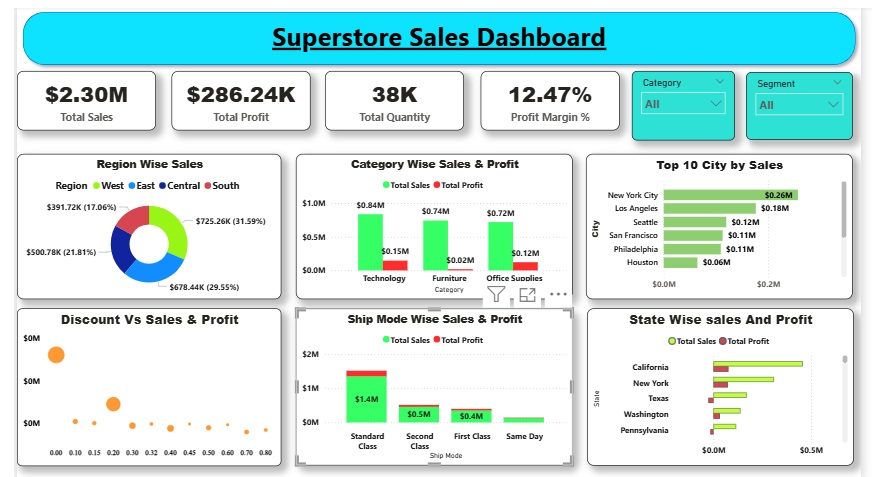

This screenshot's page, from the dashboard's own definition file:
{"tool":"powerbi","page":{"name":"Dashboard","canvas":[1280,720],"ordinal":0},"visuals":[{"type":"card","fields":{"Values":["Sales.Total Sales"]},"box":[0,98.5,211,90],"z":0},{"type":"card","fields":{"Values":["Sales.Total Profit"]},"box":[234.4,98.5,211,90],"z":1000},{"type":"card","fields":{"Values":["Sales.Profit Margin %"]},"box":[703.2,98.5,211,90],"z":2000},{"type":"card","fields":{"Values":["Sales.Total Quantity"]},"box":[467.1,98.5,211,90],"z":3000},{"type":"donutChart","title":"Region Wise Sales","fields":{"Category":["Sales.Region"],"Y":["Sales.Total Sales"]},"box":[0,224.2,400.9,220.8],"z":4000},{"type":"clusteredColumnChart","title":"Category Wise Sales & Profit","fields":{"Category":["Sales.Category"],"Y":["Sales.Total Sales","Sales.Total Profit"]},"box":[422.9,224.2,419.5,220.8],"z":5000},{"type":"clusteredBarChart","title":"Top 10 City by Sales","fields":{"Category":["Sales.City"],"Y":["Sales.Total Sales"]},"box":[862.9,224.2,404.3,220.8],"z":6000},{"type":"columnChart","title":"Ship Mode Wise Sales &  Profit","fields":{"Category":["Sales.Ship Mode"],"Y":["Sales.Total Sales","Sales.Total Profit"]},"box":[422.9,458.6,419.5,238],"z":7000},{"type":"clusteredBarChart","title":"State Wise sales And Profit","fields":{"Category":["Sales.State"],"Y":["Sales.Total Sales","Sales.Total Profit"]},"box":[864.6,458.6,404.3,238],"z":8000},{"type":"shape","box":[0,0,1280.7,98.5],"z":9000},{"type":"slicer","fields":{"Values":["Sales.Category"]},"box":[932.5,98.5,156.3,105],"z":10000},{"type":"slicer","fields":{"Values":["Sales.Segment"]},"box":[1105.8,100.2,161.4,103],"z":11000},{"type":"scatterChart","title":"Discount Vs Sales & Profit","fields":{"X":["Sales.Discount"],"Y":["Sales.Total Profit"],"Size":["Sales.Total Sales"]},"box":[0,458.6,400.9,239],"z":12000}]}

Visuals, with their boxes in screenshot pixels (x1, y1, x2, y2), scaled from the page's 1280x720 canvas onto the 872x477 screenshot:
card - Sales.Total Sales: (x1=0, y1=65, x2=144, y2=125)
card - Sales.Total Profit: (x1=160, y1=65, x2=303, y2=125)
card - Sales.Profit Margin %: (x1=479, y1=65, x2=623, y2=125)
card - Sales.Total Quantity: (x1=318, y1=65, x2=462, y2=125)
"Region Wise Sales" donutChart: (x1=0, y1=149, x2=273, y2=295)
"Category Wise Sales & Profit" clusteredColumnChart: (x1=288, y1=149, x2=574, y2=295)
"Top 10 City by Sales" clusteredBarChart: (x1=588, y1=149, x2=863, y2=295)
"Ship Mode Wise Sales &  Profit" columnChart: (x1=288, y1=304, x2=574, y2=461)
"State Wise sales And Profit" clusteredBarChart: (x1=589, y1=304, x2=864, y2=461)
shape: (x1=0, y1=0, x2=871, y2=65)
slicer - Sales.Category: (x1=635, y1=65, x2=742, y2=135)
slicer - Sales.Segment: (x1=753, y1=66, x2=863, y2=135)
"Discount Vs Sales & Profit" scatterChart: (x1=0, y1=304, x2=273, y2=462)
